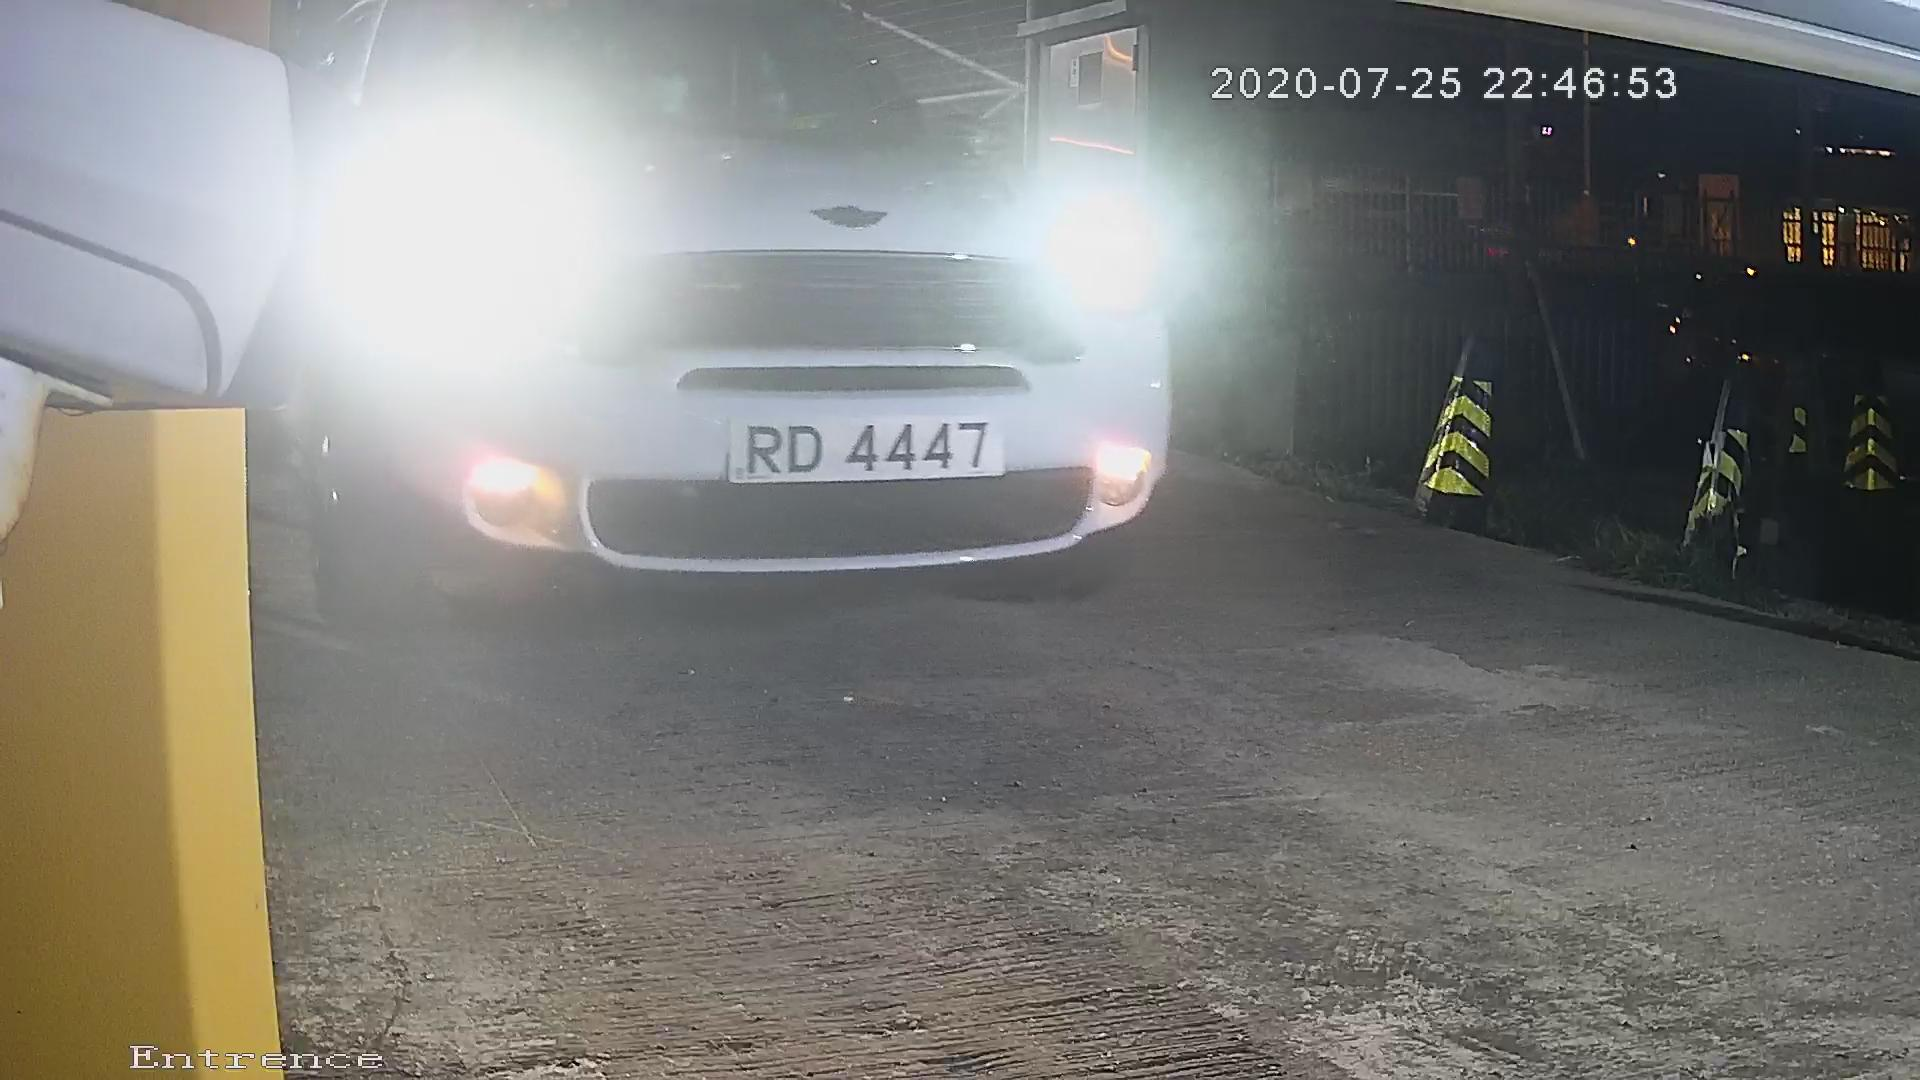Car: (26, 1, 1466, 685)
License Plate: (678, 391, 1038, 512)
